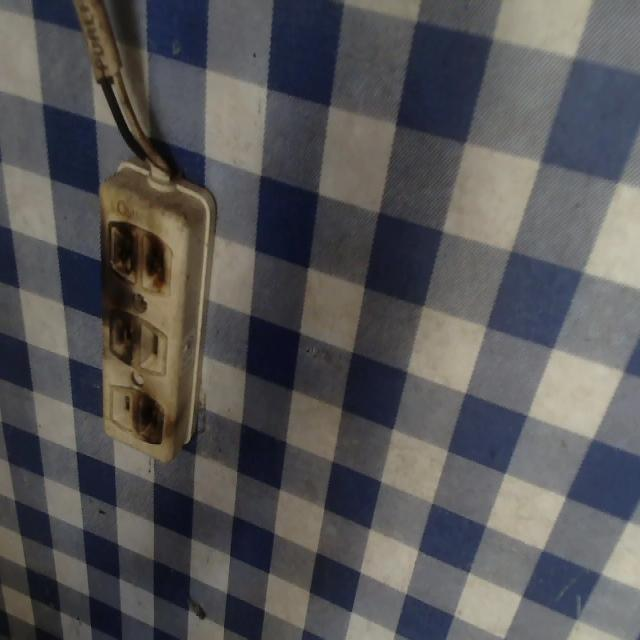-: (104, 214, 171, 290), (106, 308, 142, 367), (134, 391, 165, 446)
